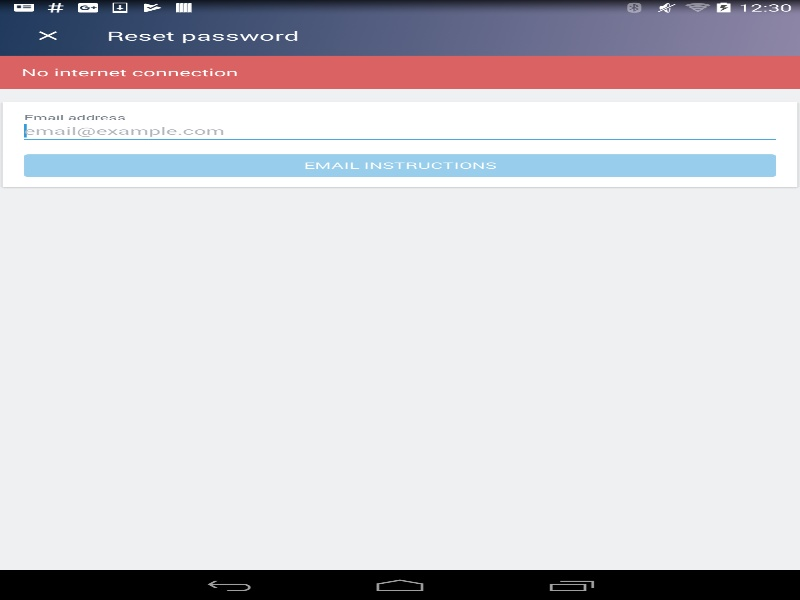Button: (24, 154, 776, 176), (10, 15, 85, 55)
Input: (24, 120, 776, 137)
